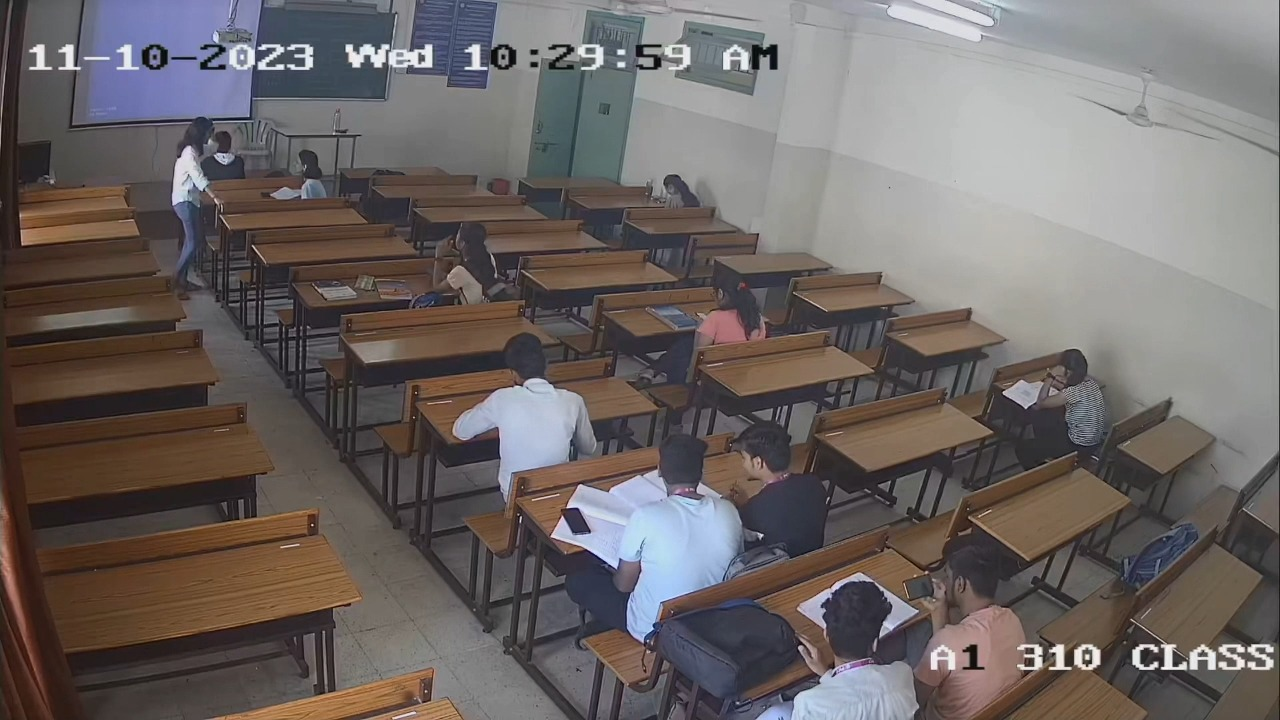cell-phones: (557, 505, 594, 539), (900, 571, 937, 603)
person: (611, 432, 749, 584), (907, 532, 1026, 697)
